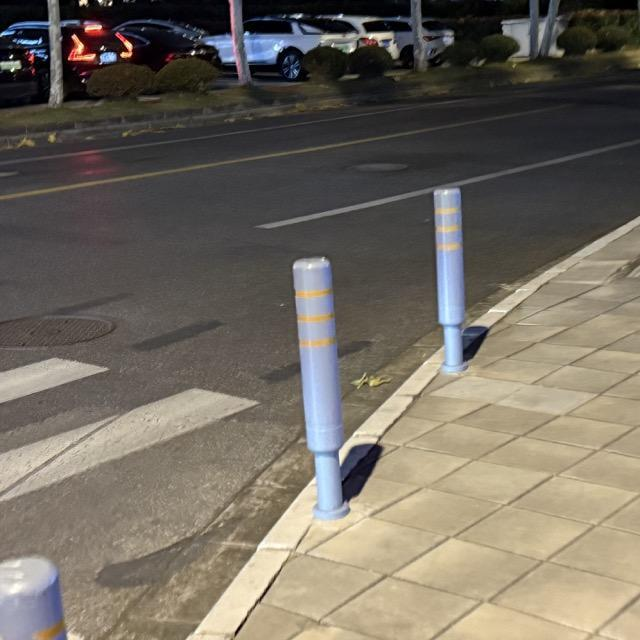curb: (187, 479, 314, 639), (0, 99, 347, 151), (479, 217, 639, 325), (340, 348, 443, 464)
